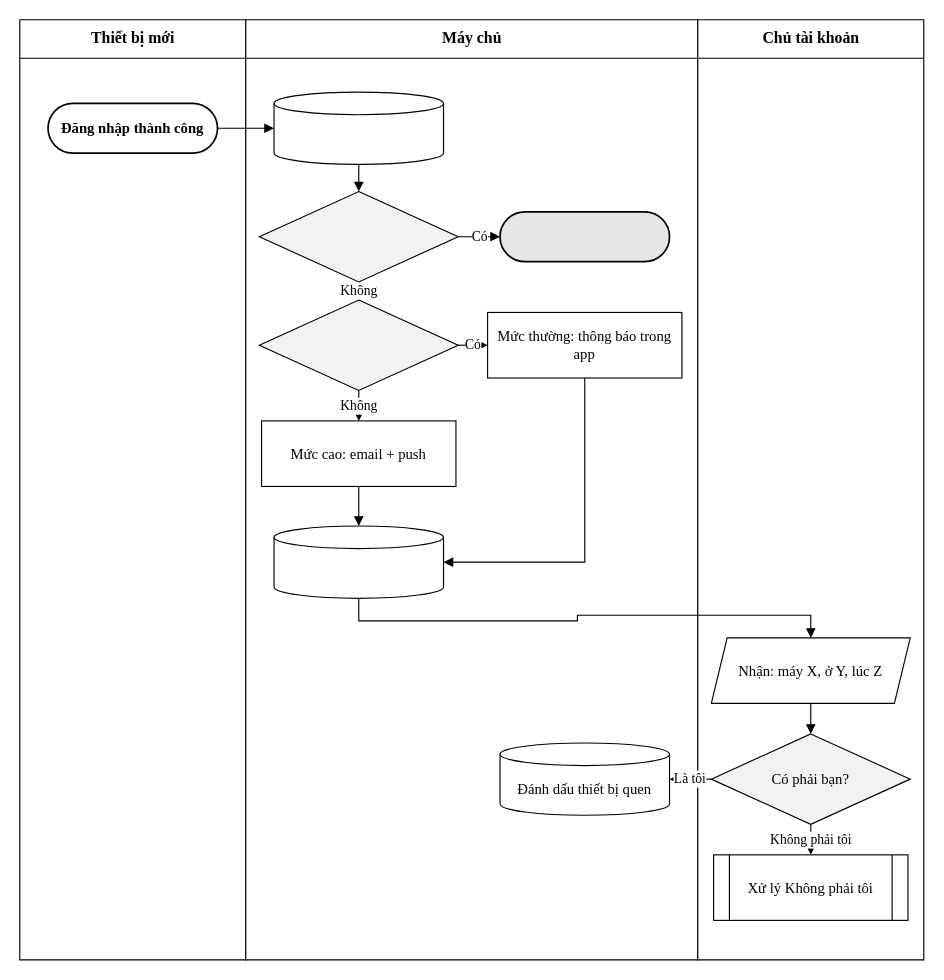
Image size: 944x980. Some labels were removed from this diagram. The centre of each missing label's shape, as x and y in pixels:
Ghi sự kiện, tạo link 7 ngày: the point at 358,561
Không cảnh báo: the point at 584,236
Quốc gia quen?: the point at 358,344
Thiết bị đã quen?: the point at 358,236
Tạo phiên: máy, IP, nơi: the point at 358,127
